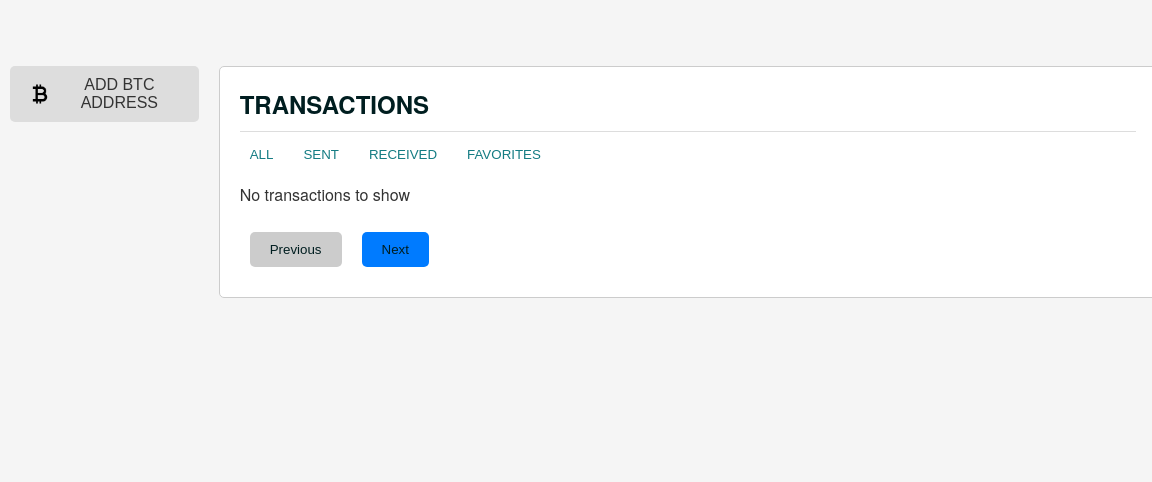
Test case: Dashboard Component › fetches and displays transactions
The width and height of the screenshot is (1152, 482).
Click the button "ADD BTC ADDRESS" at (104, 94), box [10,66,199,122]
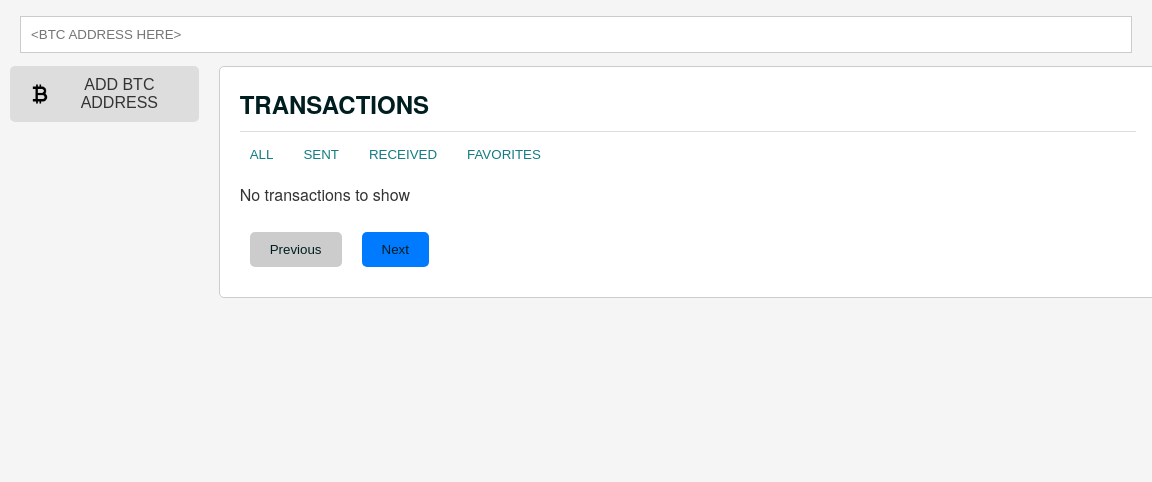
Type "some-bitcoin-address" into the field with placeholder "<BTC ADDRESS HERE>" at (576, 34), box [20,16,1132,53]
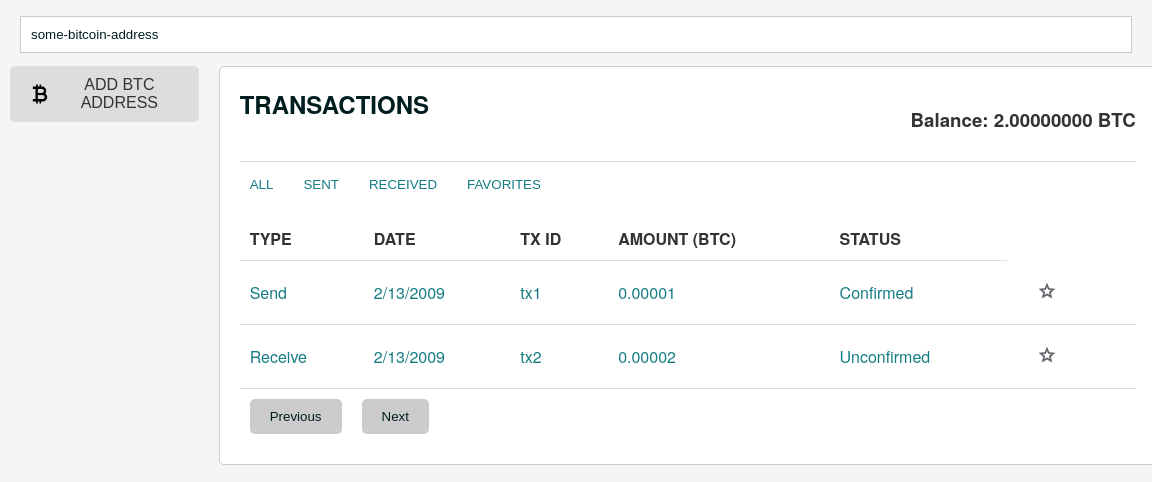
Expected: the text "tx1" is shown, [510,261,608,324]
Expected: the text "tx2" is shown, [510,324,608,388]
